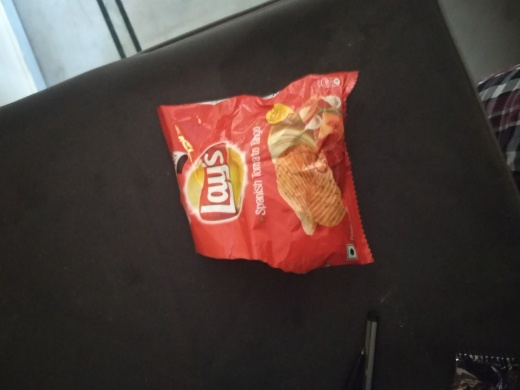lays: (148, 67, 378, 276)
